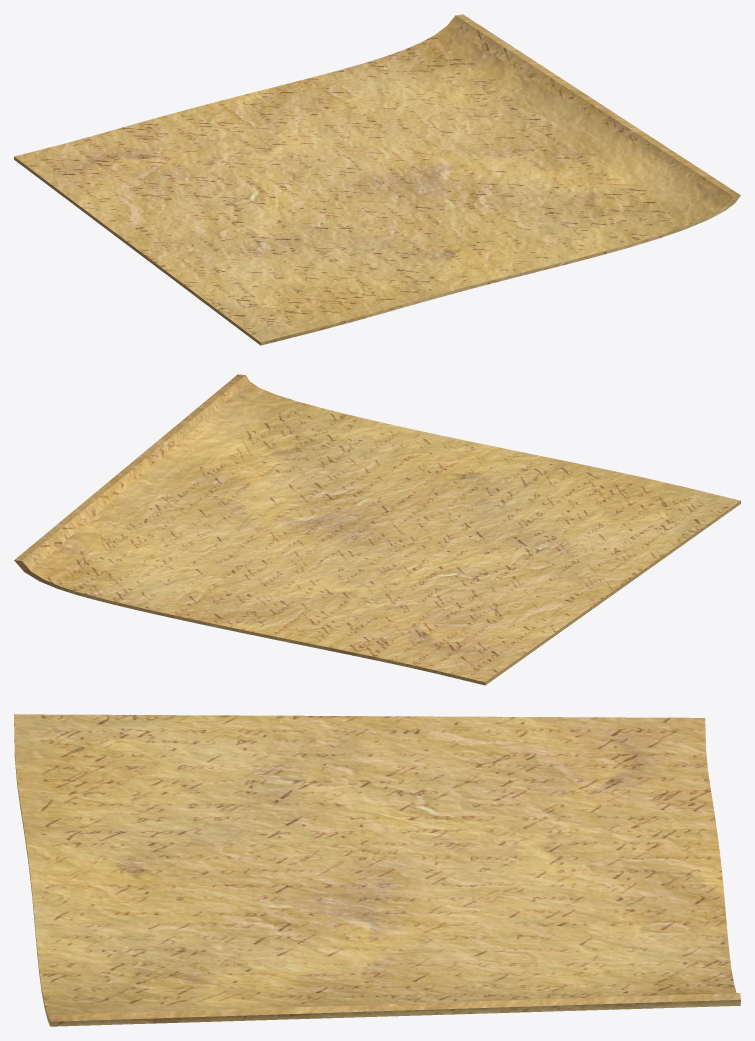
Rendered from Letter.fbx.
The picture shows the model from 3 angles, top to bottom: view 1: azimuth 30°, elevation 25°; view 2: azimuth 150°, elevation 25°; view 3: azimuth 270°, elevation 25°; orthographic projection. The views are drawn at different scales.
Parts seen in each view (by area): view 1: pCube3; view 2: pCube3; view 3: pCube3.
Boxes of the visible parts, x1,y1,x2,y2 form: pCube3: (14, 14, 740, 345); pCube3: (14, 374, 740, 685); pCube3: (14, 714, 740, 1026).
Size of the model in its own units: 11.65 by 0.5752 by 10.84.
